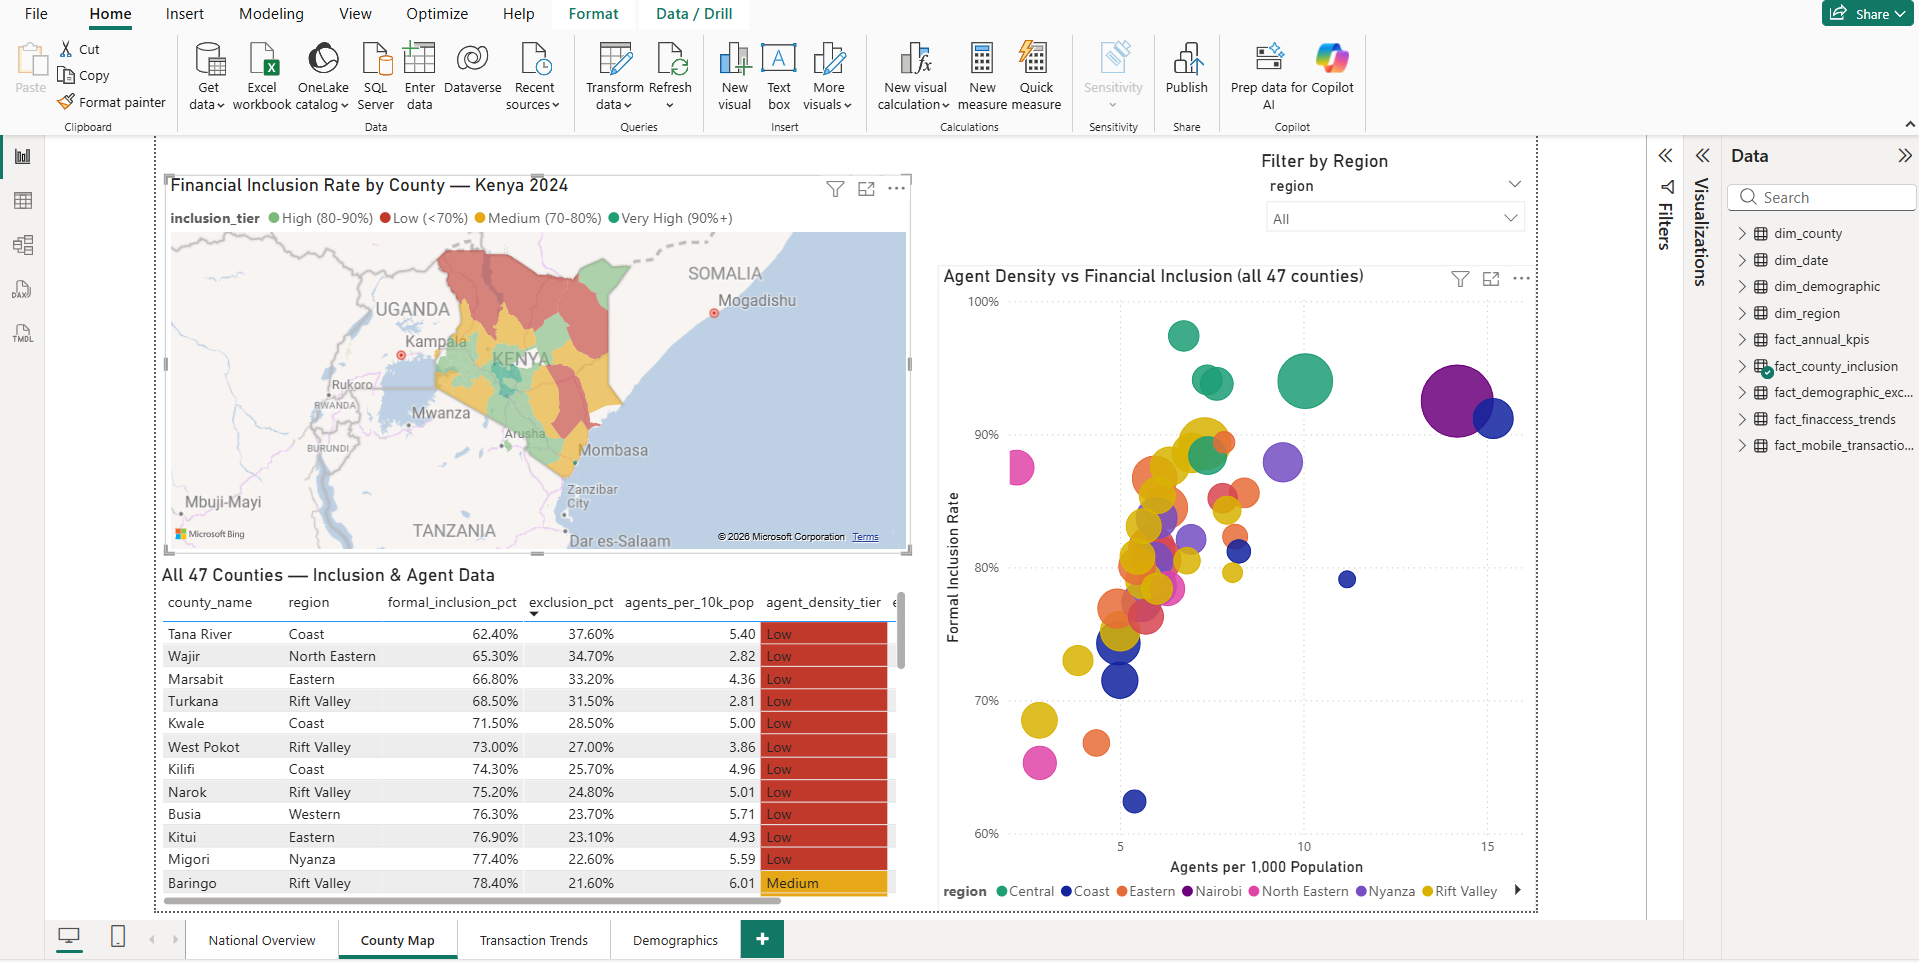

Layout of this report page (visuals, bound fields, positions):
{"tool":"powerbi","page":{"name":"County Map","canvas":[1280,720],"ordinal":1},"visuals":[{"type":"filledMap","title":"Financial Inclusion Rate by County — Kenya 2024","fields":{"Category":["fact_county_inclusion.county_name"],"Series":["fact_county_inclusion.inclusion_tier"]},"box":[8.2,36.9,692.2,352.3],"z":0},{"type":"slicer","title":"Filter by Region","fields":{"Values":["fact_county_inclusion.region"]},"box":[1020,13.9,259.5,94.4],"z":1000},{"type":"scatterChart","title":"Agent Density vs Financial Inclusion (all 47 counties)","fields":{"Category":["fact_county_inclusion.county_name"],"Series":["fact_county_inclusion.region"],"Size":["Sum(fact_county_inclusion.population_2024)"],"X":["Avg(fact_county_inclusion.agents_per_10k_pop)"],"Y":["Avg(fact_county_inclusion.formal_inclusion_pct)"]},"box":[725,120.8,555,599],"z":2000},{"type":"tableEx","title":"All 47 Counties — Inclusion & Agent Data","fields":{"Values":["fact_county_inclusion.county_name","fact_county_inclusion.region","fact_county_inclusion.formal_inclusion_pct","fact_county_inclusion.exclusion_pct","fact_county_inclusion.agents_per_10k_pop","fact_county_inclusion.agent_density_tier","fact_county_inclusion.excluded_population"]},"box":[0,398.3,700.4,321.5],"z":3000}]}

Visuals, with their boxes on the page's 1280x720 design canvas (x1, y1, x2, y2). These are canvas units, not pixel positions in the 1919x962 screenshot, which may show the page scaled, cropped or inside an application window:
"Financial Inclusion Rate by County — Kenya 2024" filledMap: bbox=[8, 37, 700, 389]
"Filter by Region" slicer: bbox=[1020, 14, 1280, 108]
"Agent Density vs Financial Inclusion (all 47 counties)" scatterChart: bbox=[725, 121, 1280, 720]
"All 47 Counties — Inclusion & Agent Data" tableEx: bbox=[0, 398, 700, 720]
